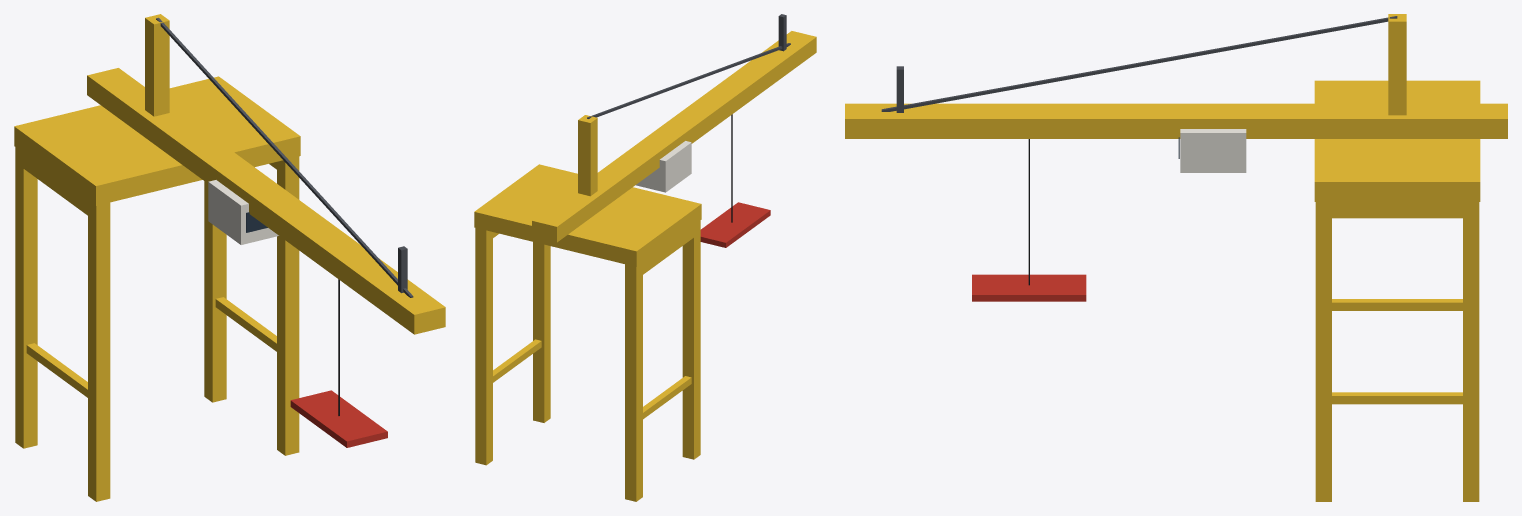
File: dock_crane.glb
3 renders of one model, left to right at view 1: azimuth 30°, elevation 25°; view 2: azimuth 150°, elevation 25°; view 3: azimuth 270°, elevation 25°, orthographic. The views are drawn at different scales.
Parts seen in each view (by area): view 1: dock_crane; view 2: dock_crane; view 3: dock_crane.
Boxes of the visible parts, x1=… form: dock_crane: x1=14, y1=14, x2=445, y2=501; dock_crane: x1=474, y1=14, x2=816, y2=501; dock_crane: x1=845, y1=14, x2=1507, y2=501.
Size of the model in its own units: 13 by 26.08 by 36.
